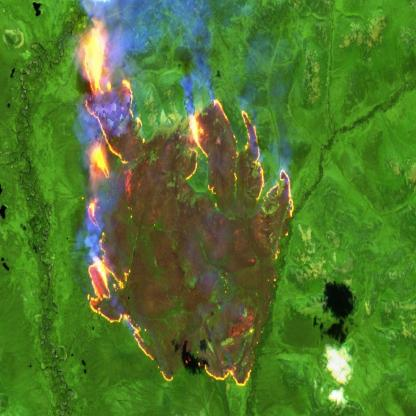fire: (75, 15, 298, 391)
